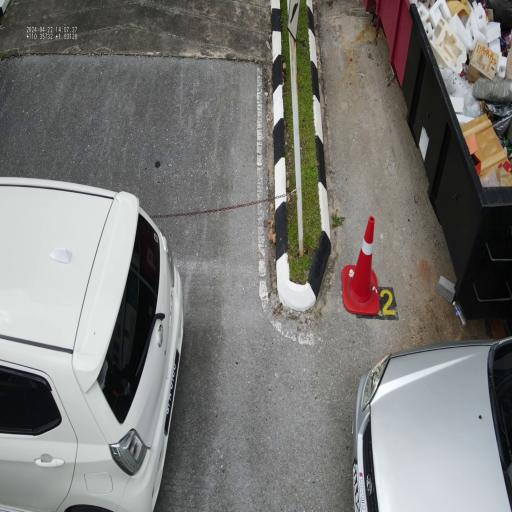Illegal: (0, 173, 185, 512), (351, 334, 512, 512)
